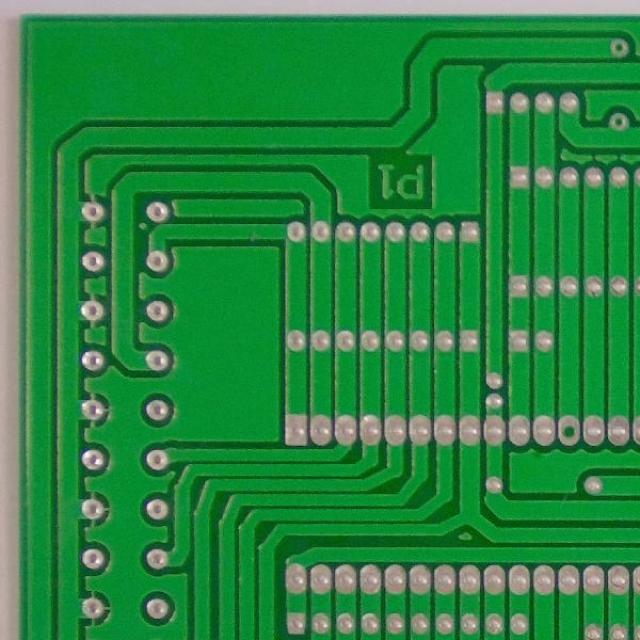Missing_Hole: (554, 411, 580, 449), (606, 111, 630, 132), (608, 36, 629, 58)
